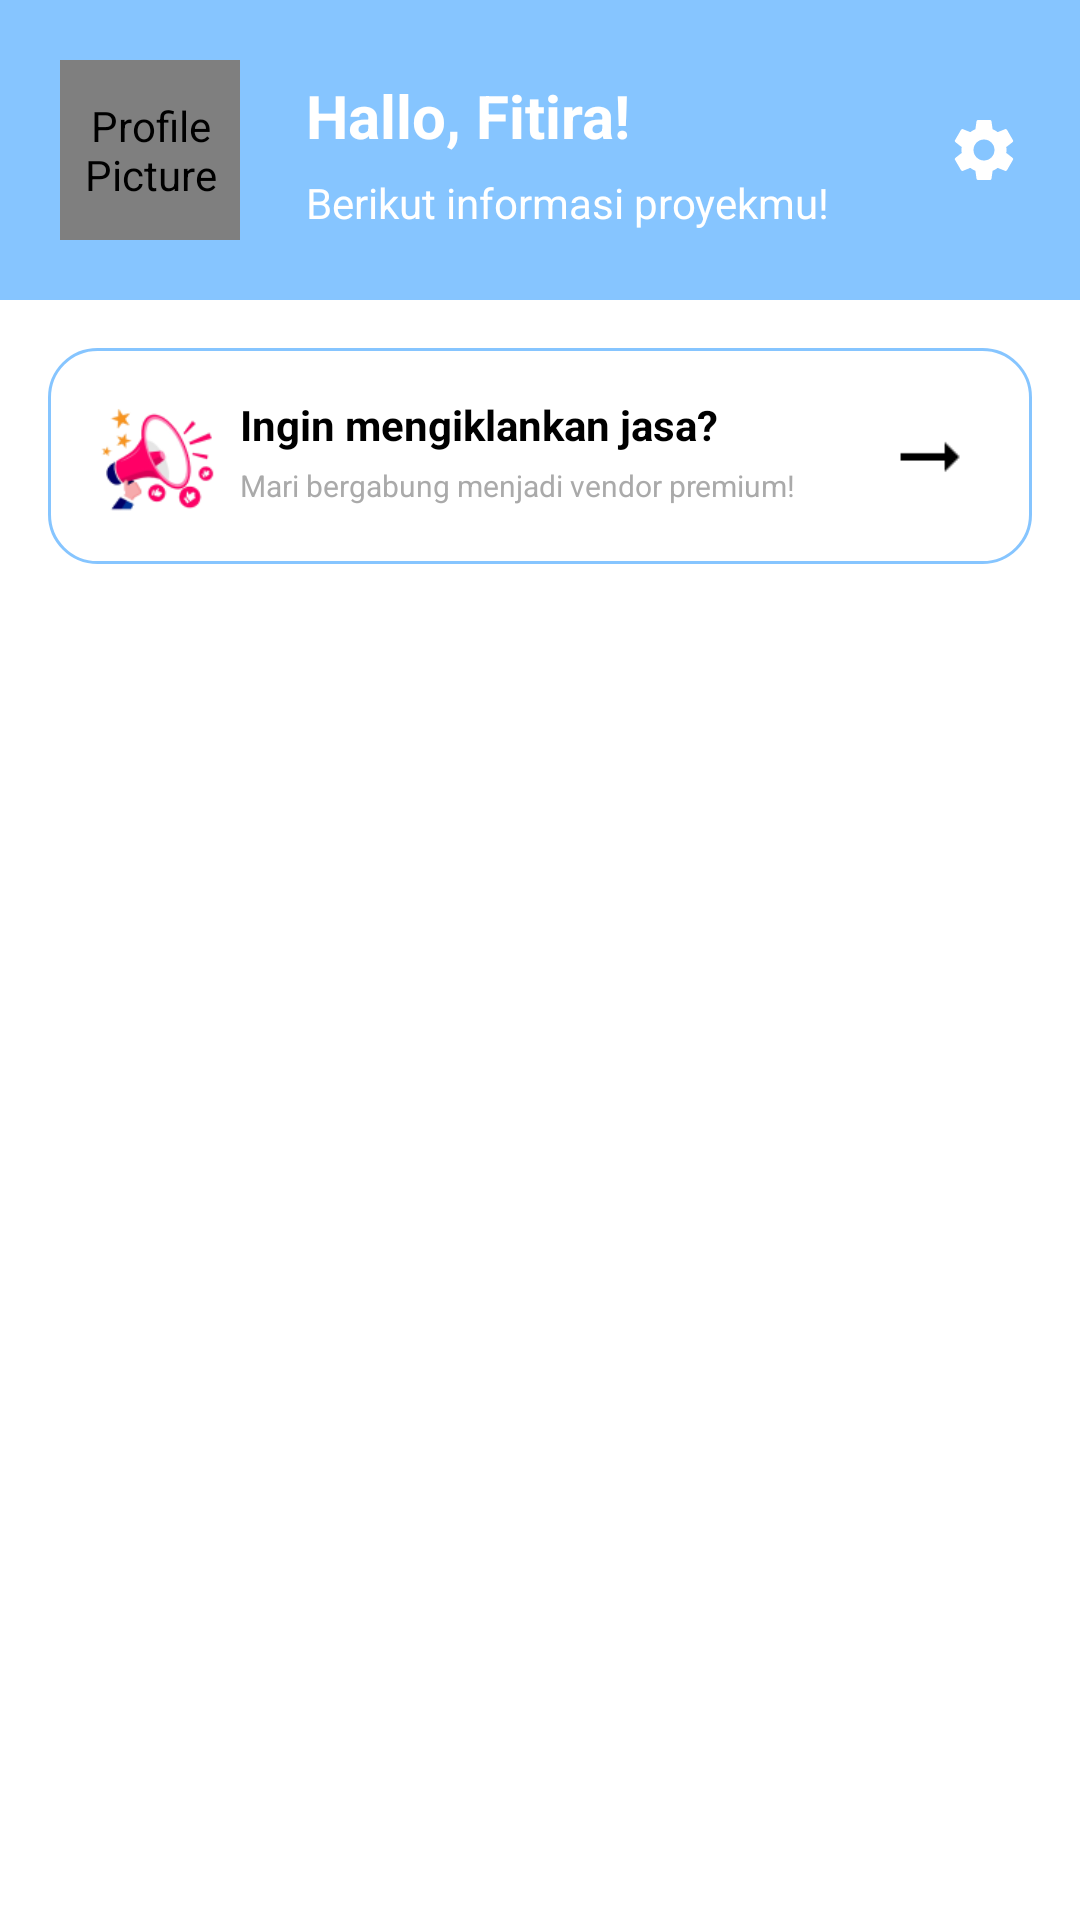

Icons on this 1080 x 1920 Android screen, each with the point to tap as [x,y]:
Arrow Icon: [930,457]
Promo Icon: [158,459]
settings: [984,150]
